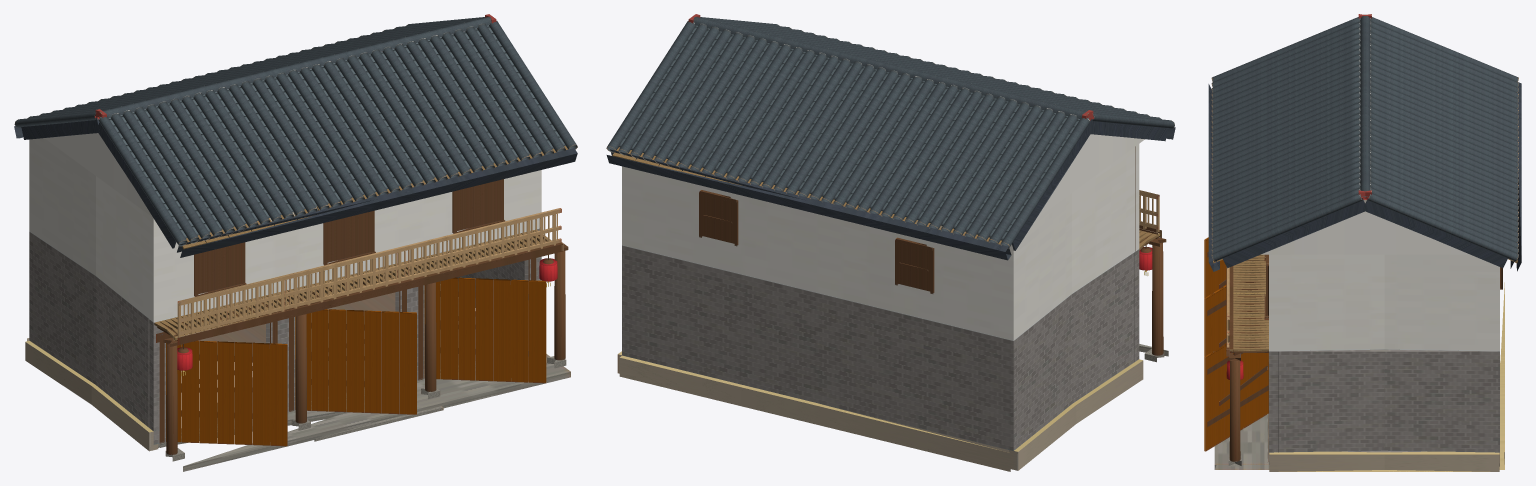
Rendered from lib_lib_house_a2_open.hd.glb.
3 views of the same model, side by side, from view 1: azimuth 30°, elevation 25°; view 2: azimuth 150°, elevation 25°; view 3: azimuth 270°, elevation 25° (orthographic). The views are drawn at different scales.
Visible parts, largest first — view 1: house_a2; view 2: house_a2; view 3: house_a2.
Part boxes in pixels (x1=…): house_a2: x1=14, y1=14, x2=577, y2=471; house_a2: x1=606, y1=14, x2=1175, y2=471; house_a2: x1=1204, y1=14, x2=1521, y2=471.
Size of the model in its own units: 11.12 by 8 by 8.25.
8 materials, 8 textured.
